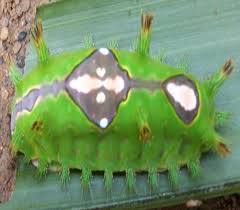Pest! (nettle_caterpillar): (8, 31, 220, 180)
